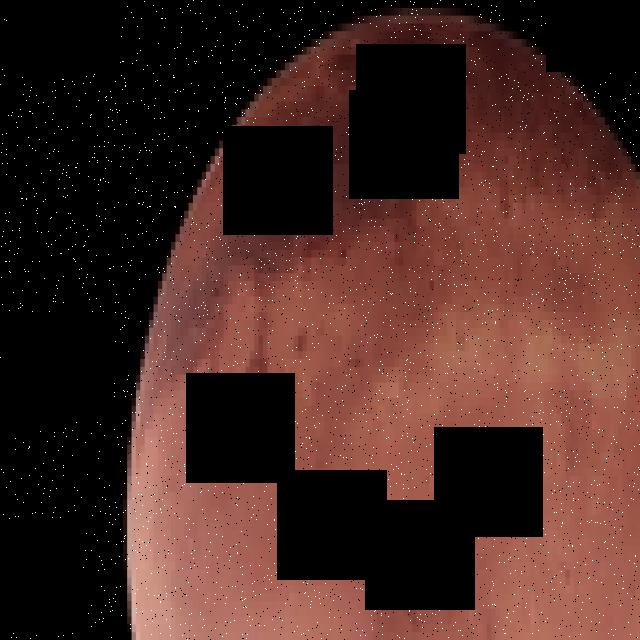Mars: (122, 16, 640, 640)
